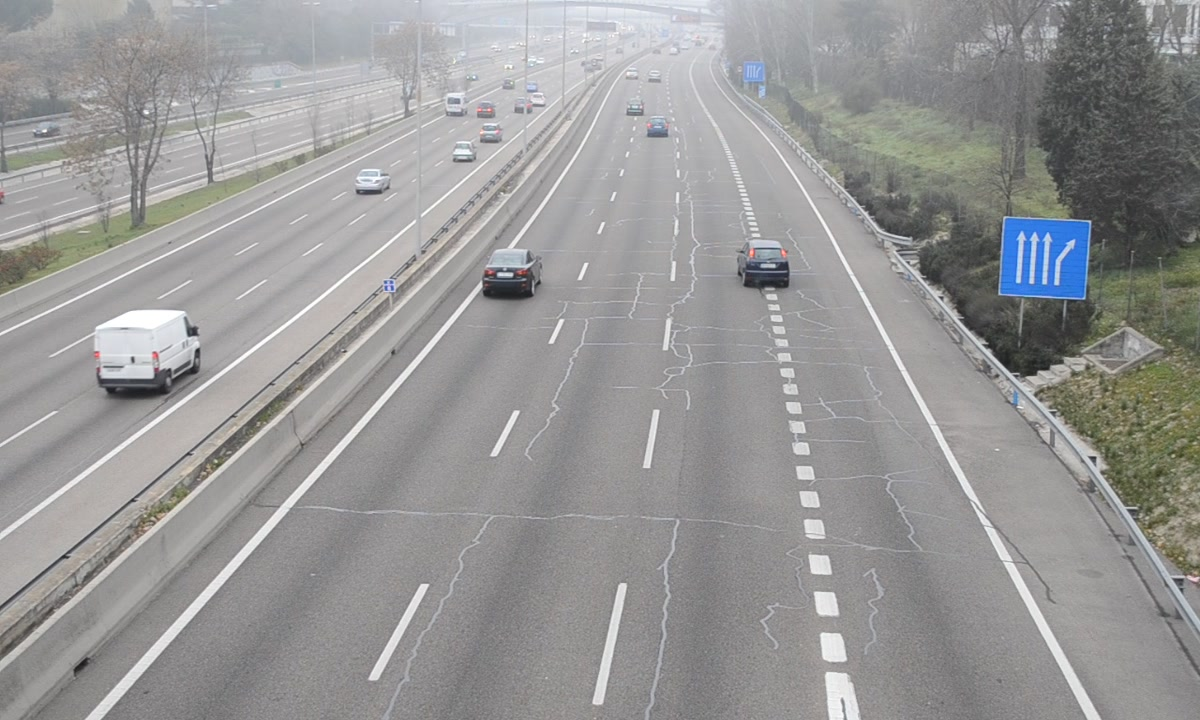car: (484, 249, 542, 293), (737, 242, 788, 286), (646, 115, 670, 139)
